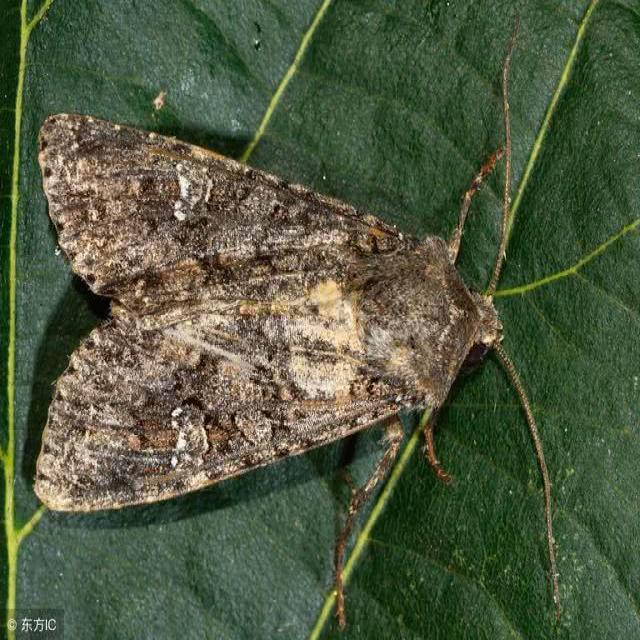armyworm: (41, 105, 557, 489)
